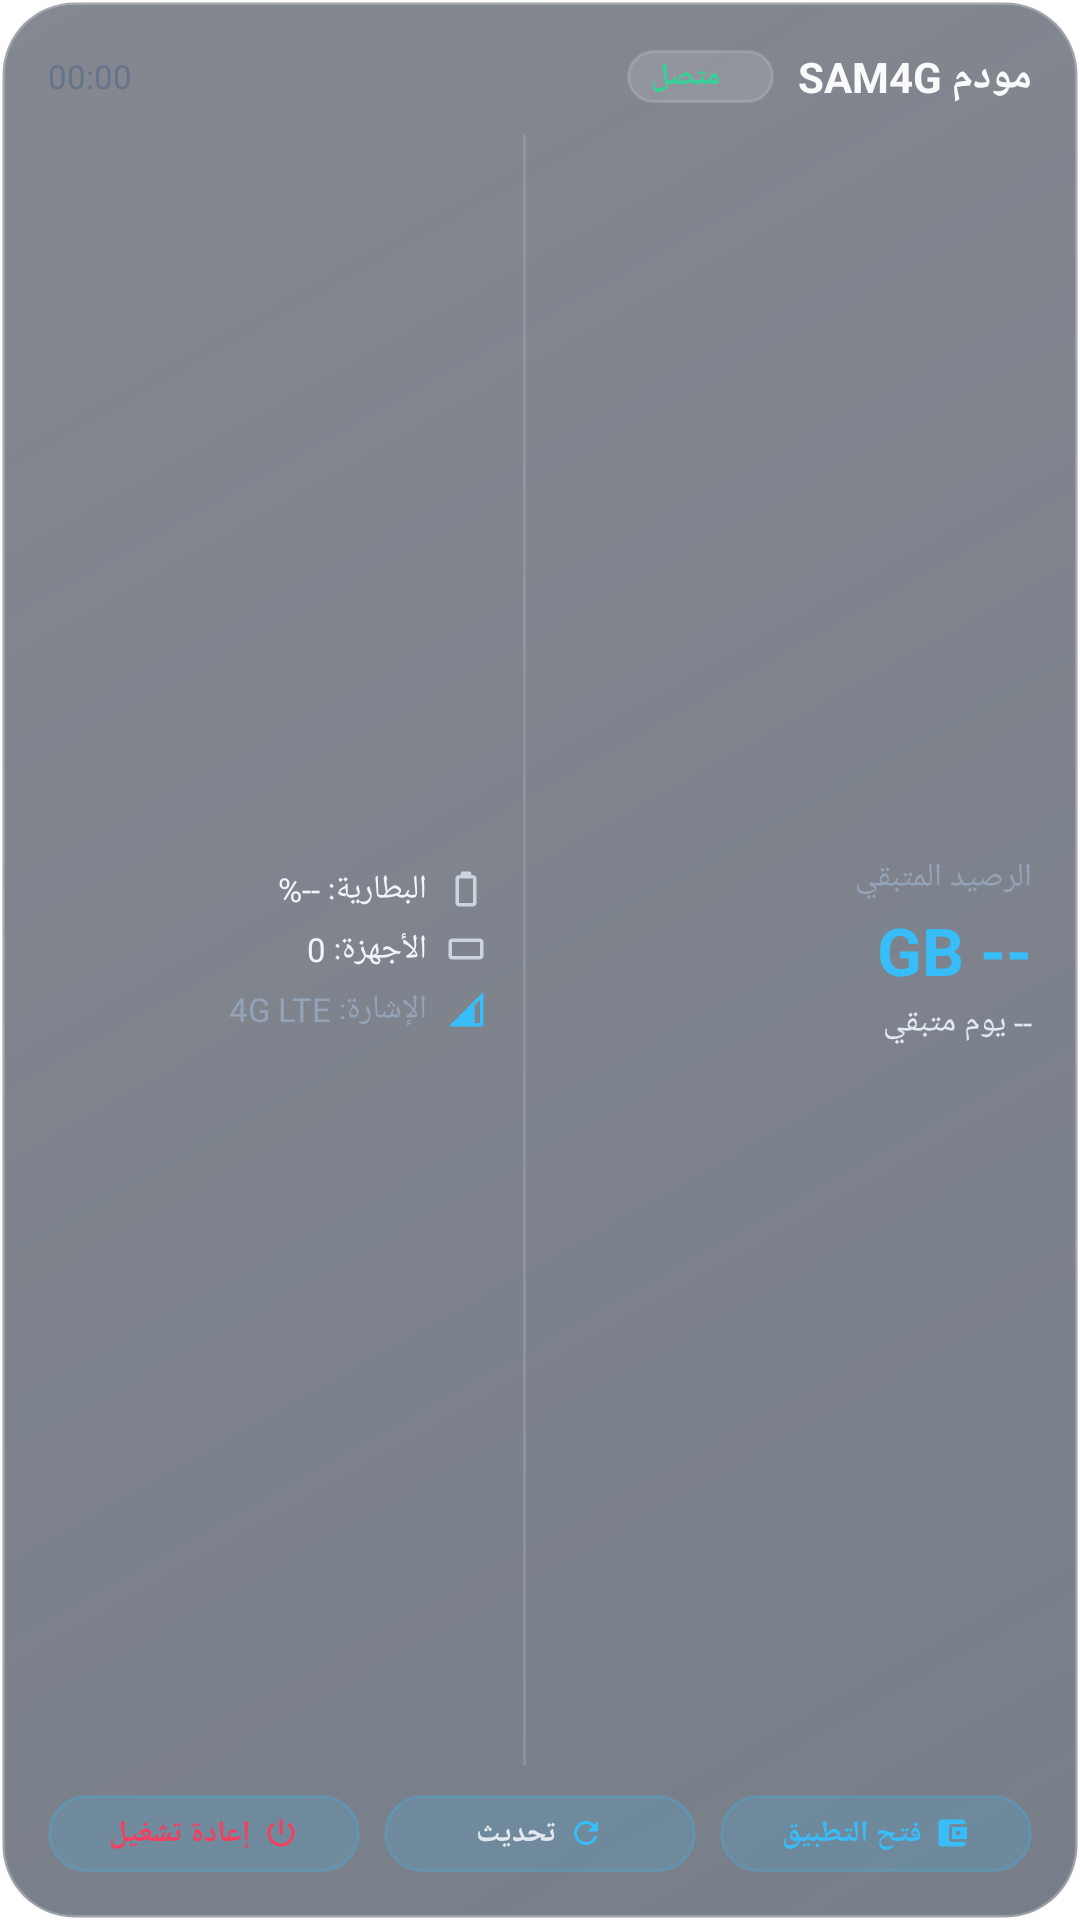

Screen size 1080px x 1920px. Icon name, then its box in pixels as (x1, y1, x2, y2):
widget power: (267, 1819, 295, 1847)
widget wallet: (938, 1819, 967, 1847)
